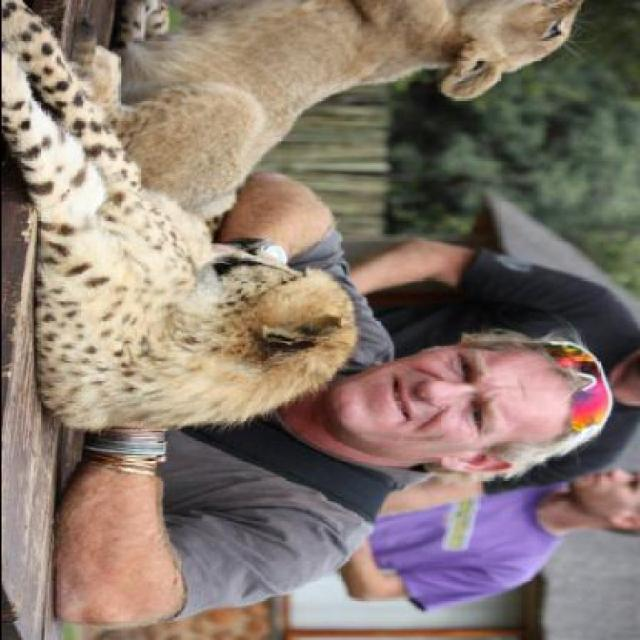Lion: (143, 2, 606, 165)
